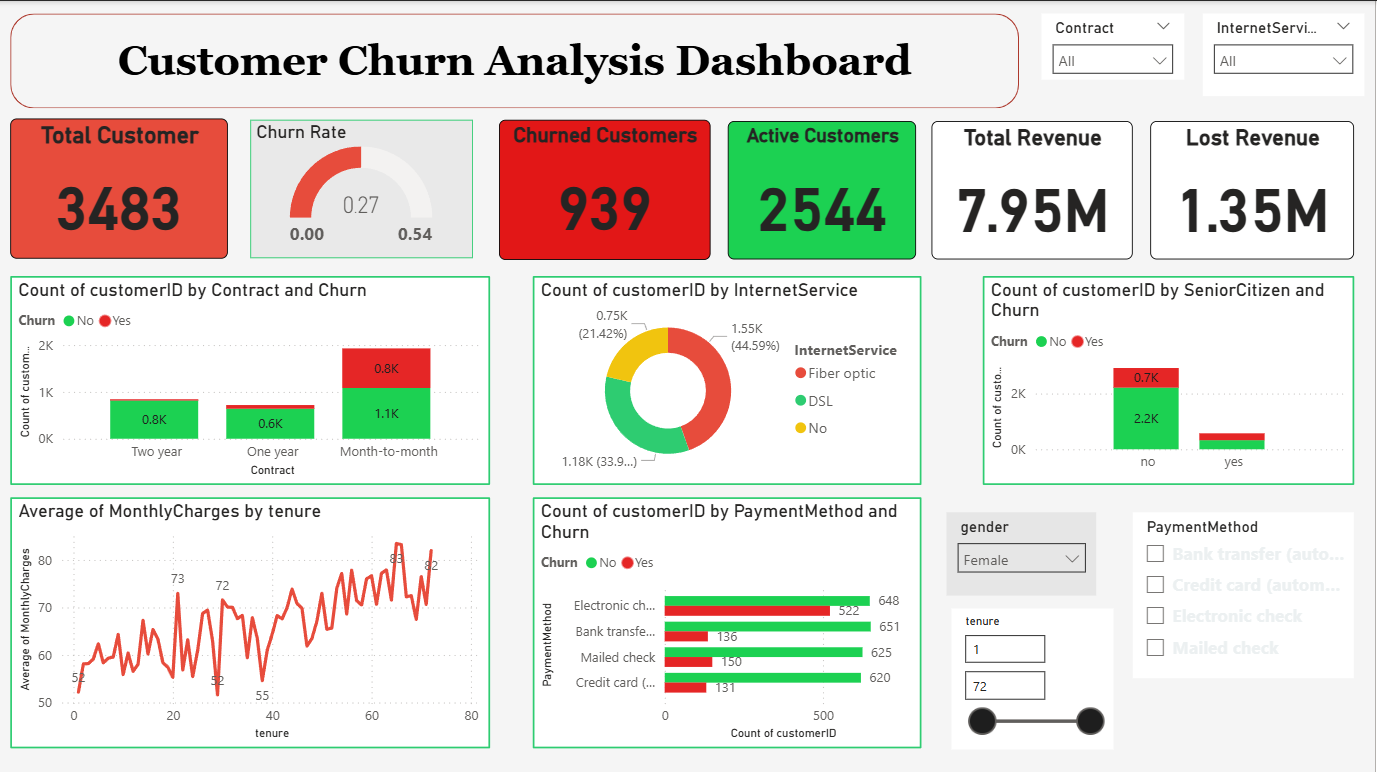

This screenshot's page, from the dashboard's own definition file:
{"tool":"powerbi","page":{"name":"Page 1","canvas":[1280,720],"ordinal":0},"visuals":[{"type":"card","title":"Total Customer ","fields":{"Values":["WA_Fn-UseC_-Telco-Customer-Churn (1).Total Customers"]},"box":[10.5,109.3,202.3,130.2],"z":0},{"type":"card","title":"Churned Customers","fields":{"Values":["WA_Fn-UseC_-Telco-Customer-Churn (1).Churned Customers"]},"box":[465.1,110.5,196.5,130.2],"z":1000},{"type":"card","title":"Active Customers","fields":{"Values":["WA_Fn-UseC_-Telco-Customer-Churn (1).Active Customers"]},"box":[677.9,111.6,175.6,129.1],"z":2000},{"type":"gauge","fields":{"Y":["WA_Fn-UseC_-Telco-Customer-Churn (1).Churn Rate"]},"box":[233.7,110.5,207,129.1],"z":3000},{"type":"card","title":"Total Revenue","fields":{"Values":["WA_Fn-UseC_-Telco-Customer-Churn (1).Total Revenue"]},"box":[867.4,111.6,187.2,129.1],"z":4000},{"type":"card","title":"Lost Revenue","fields":{"Values":["WA_Fn-UseC_-Telco-Customer-Churn (1).Lost Revenue"]},"box":[1070.9,111.6,189.5,129.1],"z":5000},{"type":"columnChart","fields":{"Category":["WA_Fn-UseC_-Telco-Customer-Churn (1).Contract"],"Series":["WA_Fn-UseC_-Telco-Customer-Churn (1).Churn"],"Y":["CountNonNull(WA_Fn-UseC_-Telco-Customer-Churn (1).customerID)"]},"box":[10.5,255.8,446.5,194.2],"z":6000},{"type":"donutChart","fields":{"Category":["WA_Fn-UseC_-Telco-Customer-Churn (1).InternetService"],"Y":["CountNonNull(WA_Fn-UseC_-Telco-Customer-Churn (1).customerID)"]},"box":[496.5,255.8,361.6,194.2],"z":7000},{"type":"lineChart","fields":{"Category":["WA_Fn-UseC_-Telco-Customer-Churn (1).tenure"],"Y":["Avg(WA_Fn-UseC_-Telco-Customer-Churn (1).MonthlyCharges)"]},"box":[10.5,461.6,446.5,233.7],"z":8000},{"type":"clusteredBarChart","fields":{"Category":["WA_Fn-UseC_-Telco-Customer-Churn (1).PaymentMethod"],"Y":["CountNonNull(WA_Fn-UseC_-Telco-Customer-Churn (1).customerID)"],"Series":["WA_Fn-UseC_-Telco-Customer-Churn (1).Churn"]},"box":[496.5,461.6,361.6,233.7],"z":9000},{"type":"columnChart","fields":{"Category":["WA_Fn-UseC_-Telco-Customer-Churn (1).SeniorCitizen"],"Y":["CountNonNull(WA_Fn-UseC_-Telco-Customer-Churn (1).customerID)"],"Series":["WA_Fn-UseC_-Telco-Customer-Churn (1).Churn"]},"box":[915.1,255.8,345.3,194.2],"z":10000},{"type":"slicer","fields":{"Values":["WA_Fn-UseC_-Telco-Customer-Churn (1).gender"]},"box":[881.4,475.6,139.5,77.9],"z":11000},{"type":"slicer","fields":{"Values":["WA_Fn-UseC_-Telco-Customer-Churn (1).Contract"]},"box":[969.8,11.6,132.6,61.6],"z":12000},{"type":"slicer","fields":{"Values":["WA_Fn-UseC_-Telco-Customer-Churn (1).InternetService"]},"box":[1119.8,11.6,150,76.7],"z":13000},{"type":"shape","box":[10.5,11.6,938.4,88.4],"z":14000},{"type":"slicer","fields":{"Values":["WA_Fn-UseC_-Telco-Customer-Churn (1).PaymentMethod"]},"box":[1054.7,475.6,205.8,154.7],"z":15000},{"type":"slicer","fields":{"Values":["WA_Fn-UseC_-Telco-Customer-Churn (1).tenure"]},"box":[886,565.1,150,130.2],"z":16000}]}

Visuals, with their boxes in screenshot pixels (x1, y1, x2, y2), scaled from the page's 1280x720 canvas onto the 1377x772 screenshot:
"Total Customer " card: locate(11, 117, 229, 257)
"Churned Customers" card: locate(500, 118, 712, 258)
"Active Customers" card: locate(729, 120, 918, 258)
gauge - WA_Fn-UseC_-Telco-Customer-Churn (1).Churn Rate: locate(251, 118, 474, 257)
"Total Revenue" card: locate(933, 120, 1135, 258)
"Lost Revenue" card: locate(1152, 120, 1356, 258)
columnChart - WA_Fn-UseC_-Telco-Customer-Churn (1).Contract x WA_Fn-UseC_-Telco-Customer-Churn (1).Churn: locate(11, 274, 492, 482)
donutChart - WA_Fn-UseC_-Telco-Customer-Churn (1).InternetService x CountNonNull(WA_Fn-UseC_-Telco-Customer-Churn (1).customerID): locate(534, 274, 923, 482)
lineChart - WA_Fn-UseC_-Telco-Customer-Churn (1).tenure x Avg(WA_Fn-UseC_-Telco-Customer-Churn (1).MonthlyCharges): locate(11, 495, 492, 746)
clusteredBarChart - WA_Fn-UseC_-Telco-Customer-Churn (1).PaymentMethod x CountNonNull(WA_Fn-UseC_-Telco-Customer-Churn (1).customerID): locate(534, 495, 923, 746)
columnChart - WA_Fn-UseC_-Telco-Customer-Churn (1).SeniorCitizen x CountNonNull(WA_Fn-UseC_-Telco-Customer-Churn (1).customerID): locate(984, 274, 1356, 482)
slicer - WA_Fn-UseC_-Telco-Customer-Churn (1).gender: locate(948, 510, 1098, 593)
slicer - WA_Fn-UseC_-Telco-Customer-Churn (1).Contract: locate(1043, 12, 1186, 78)
slicer - WA_Fn-UseC_-Telco-Customer-Churn (1).InternetService: locate(1205, 12, 1366, 95)
shape: locate(11, 12, 1021, 107)
slicer - WA_Fn-UseC_-Telco-Customer-Churn (1).PaymentMethod: locate(1135, 510, 1356, 676)
slicer - WA_Fn-UseC_-Telco-Customer-Churn (1).tenure: locate(953, 606, 1115, 746)
